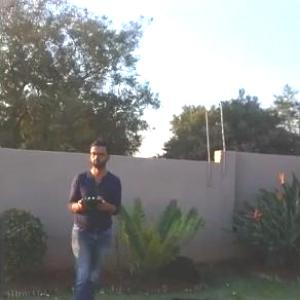follow: (60, 131, 126, 299)
